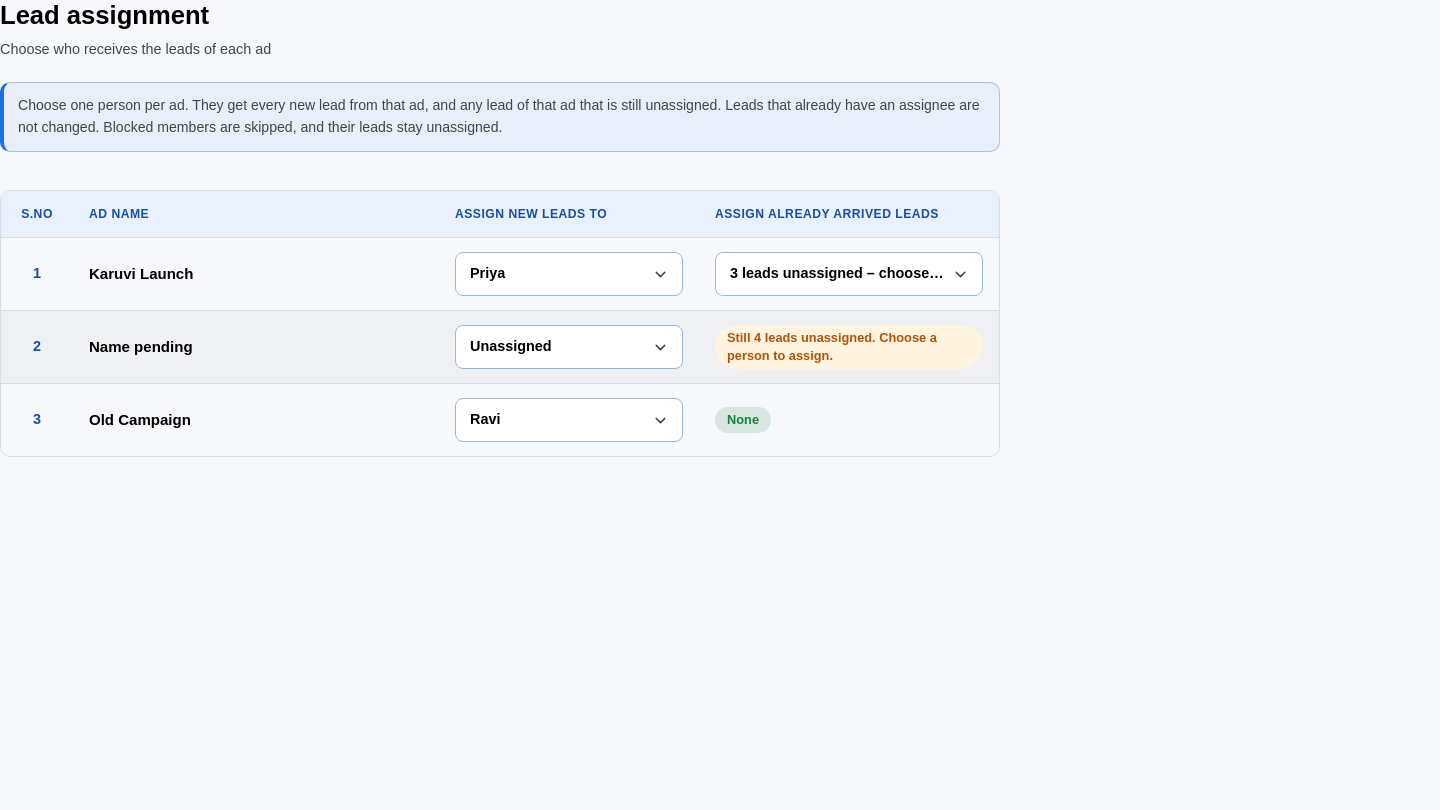
Test: AdAssignmentSection › saves only the rule when the owner chooses only new leads
Expected: the text "Karuvi Launch" is shown, [89,265,193,282]
Select "Ravi" in the dropdown named "new leads of": {"x": 569, "y": 347} [455,325,683,369]
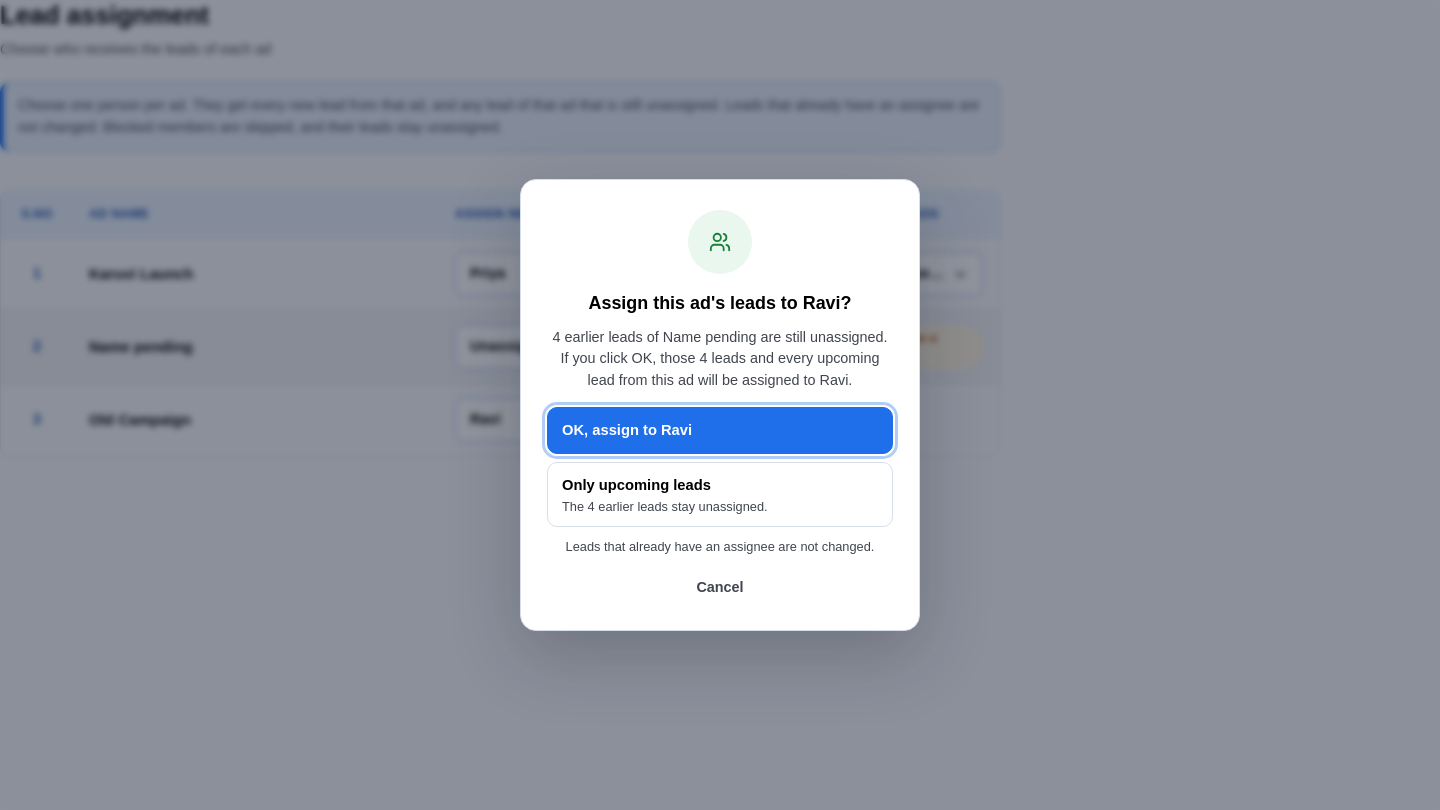
Click the button "Only upcoming leads The 4 earlier leads stay unassigned.": {"x": 636, "y": 484} [547,462,893,528]
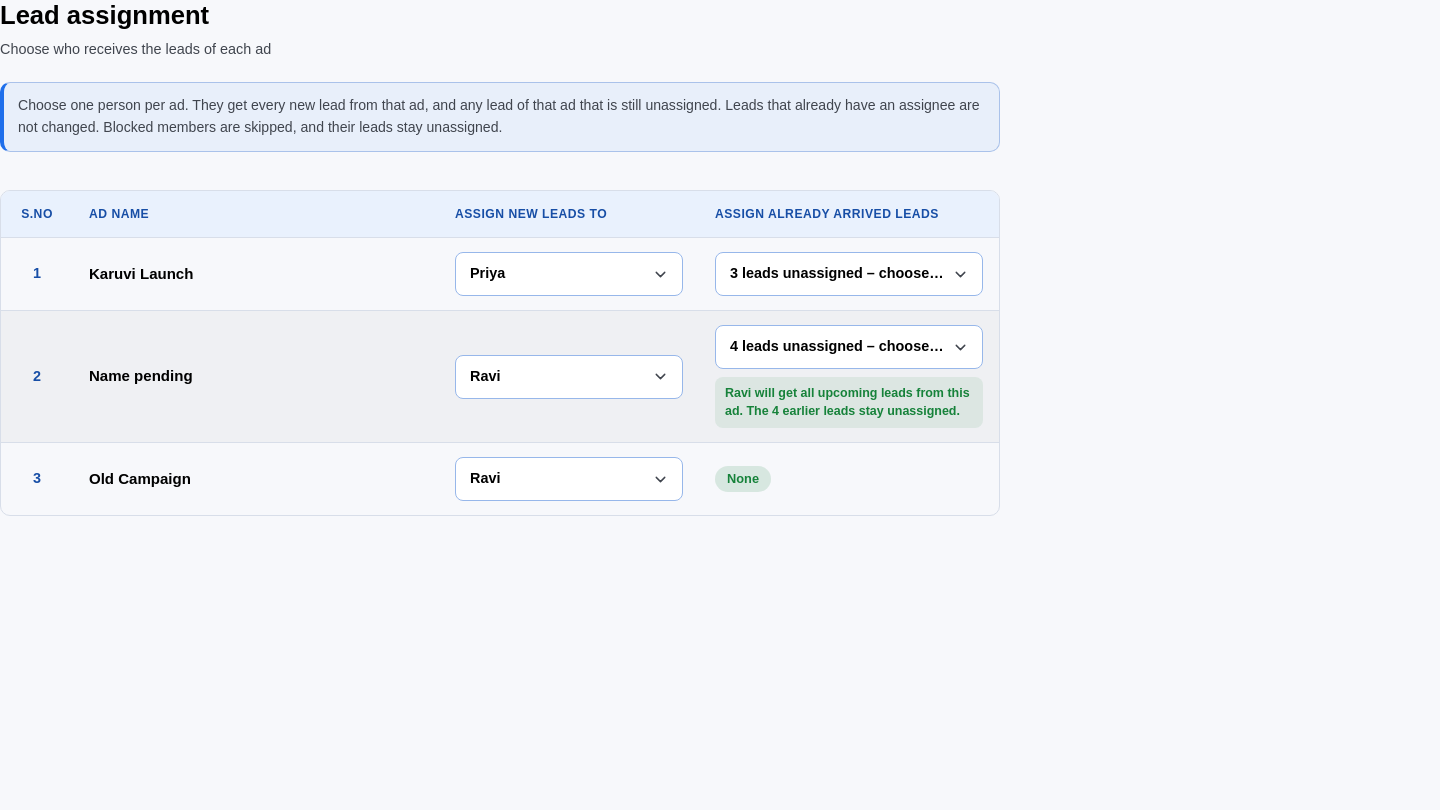
Result: the text "Ravi will get all upcoming leads from this ad. The 4 earlier leads stay unassigned." is shown at [725,386,970,418]
Result: the dropdown named "already arrived leads" is shown at [715,325,983,369]
